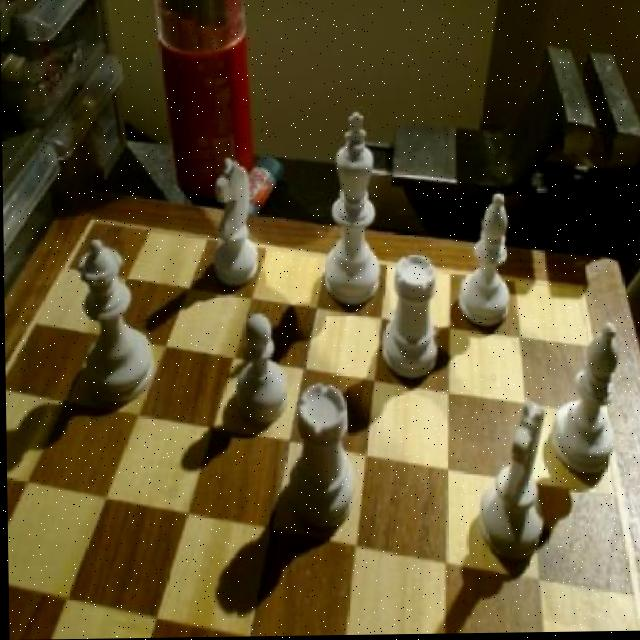black-rook: (548, 321, 624, 487), (453, 191, 518, 337)
white-bishop: (318, 111, 386, 312)
white-king: (474, 392, 551, 564), (210, 158, 264, 290)
white-knight: (231, 311, 293, 430)
white-pawn: (77, 234, 159, 408)
white-queen: (289, 381, 360, 536), (377, 253, 445, 387)
